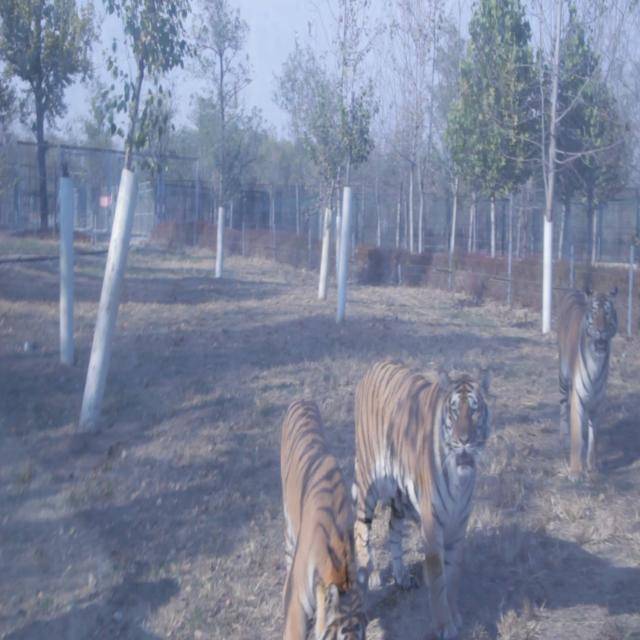Tiger: (347, 346, 494, 640), (277, 390, 366, 639), (551, 261, 625, 494)
